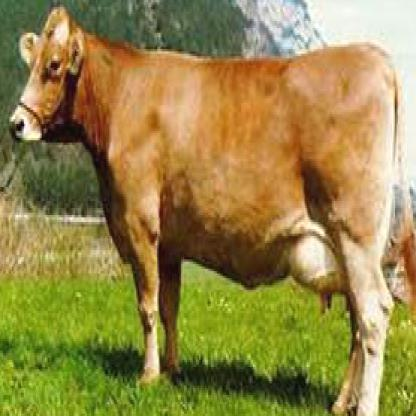cow: (6, 9, 415, 414)
